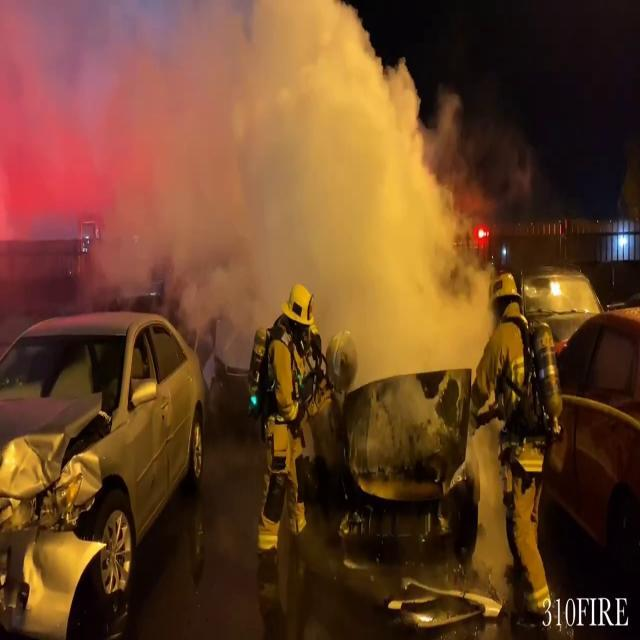Smoke: (1, 1, 509, 364)
